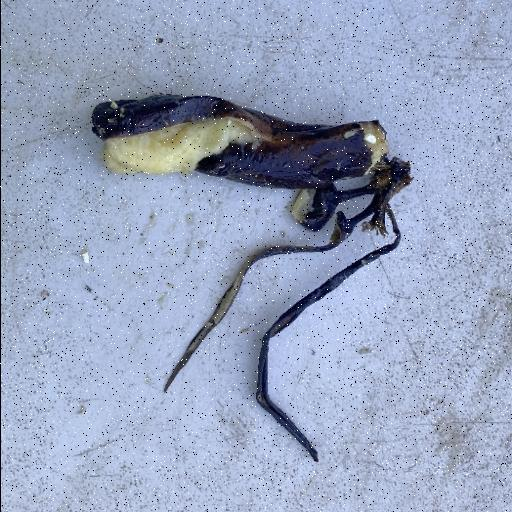Waste: (90, 90, 414, 462)
